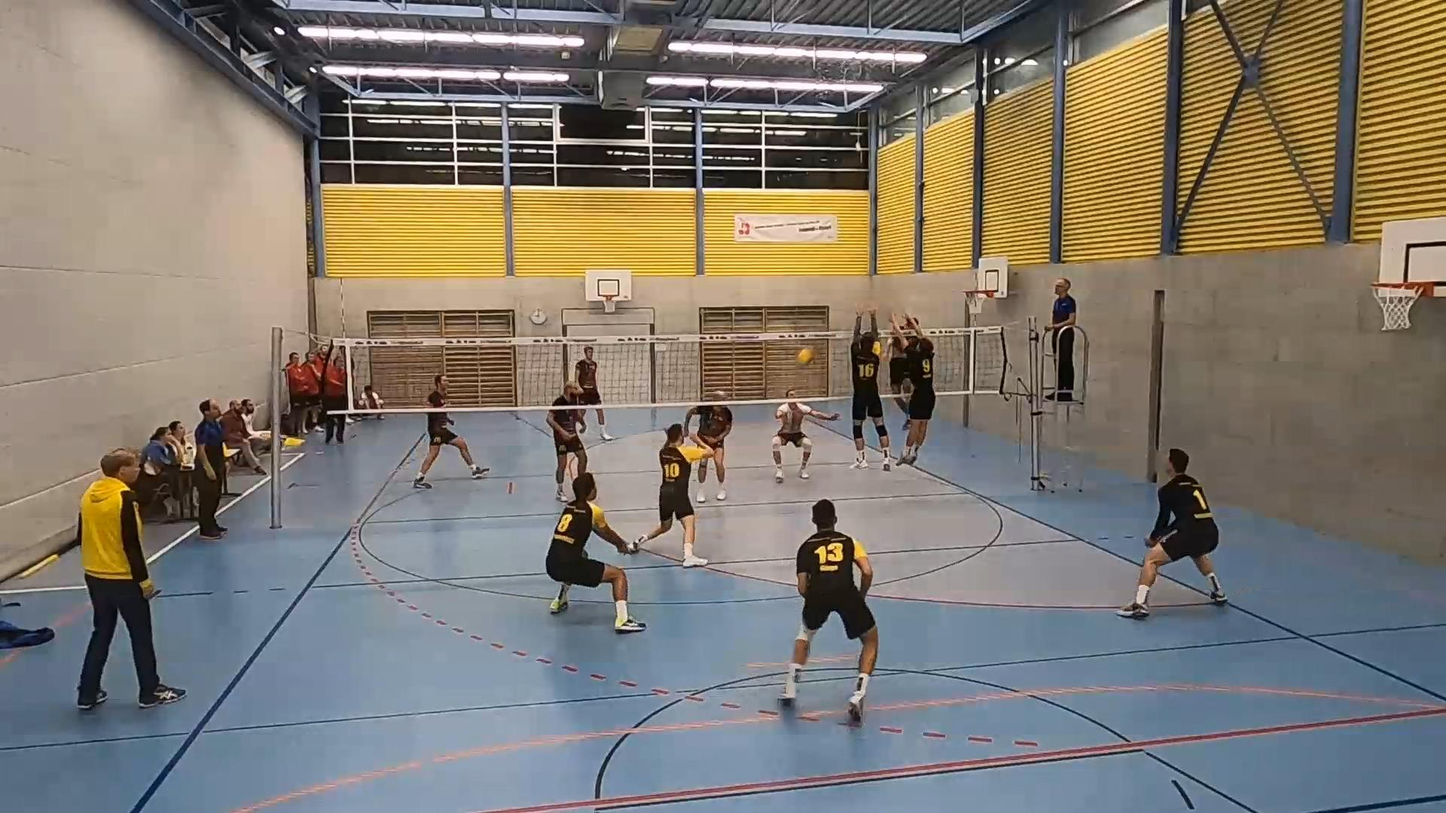Attack: (885, 307, 924, 428)
Block: (883, 314, 937, 472), (850, 307, 892, 477)
Player: (780, 499, 878, 723), (1118, 449, 1227, 619), (545, 473, 645, 632), (630, 424, 713, 567), (772, 389, 840, 482), (413, 411, 489, 488), (546, 382, 587, 501), (684, 403, 733, 501), (575, 346, 614, 441)
ball: (793, 347, 819, 366)
